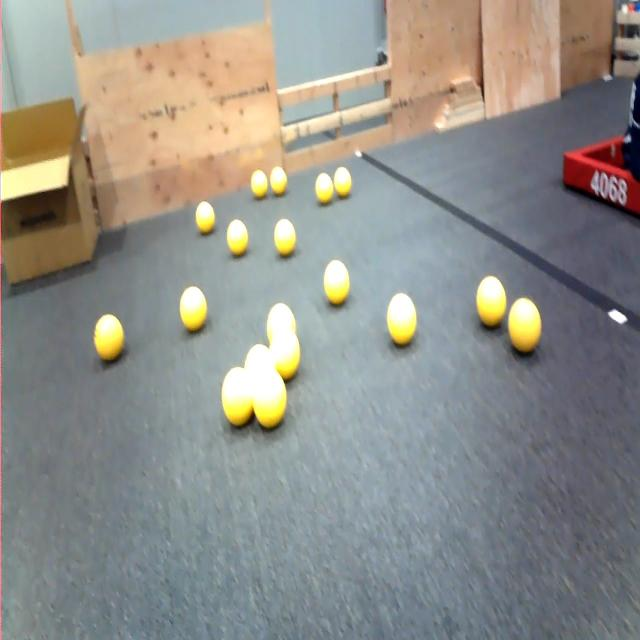Bumper: (543, 124, 640, 243)
fuel: (88, 292, 136, 366), (212, 358, 257, 430), (507, 288, 548, 366), (254, 364, 294, 436), (174, 272, 213, 343), (473, 270, 508, 342), (384, 282, 421, 350), (316, 252, 358, 302), (269, 329, 308, 377), (223, 212, 254, 266), (263, 296, 298, 337), (192, 196, 225, 238), (274, 211, 302, 260), (246, 160, 270, 205), (268, 156, 292, 199), (245, 338, 275, 372), (314, 169, 336, 205), (334, 164, 353, 202)
